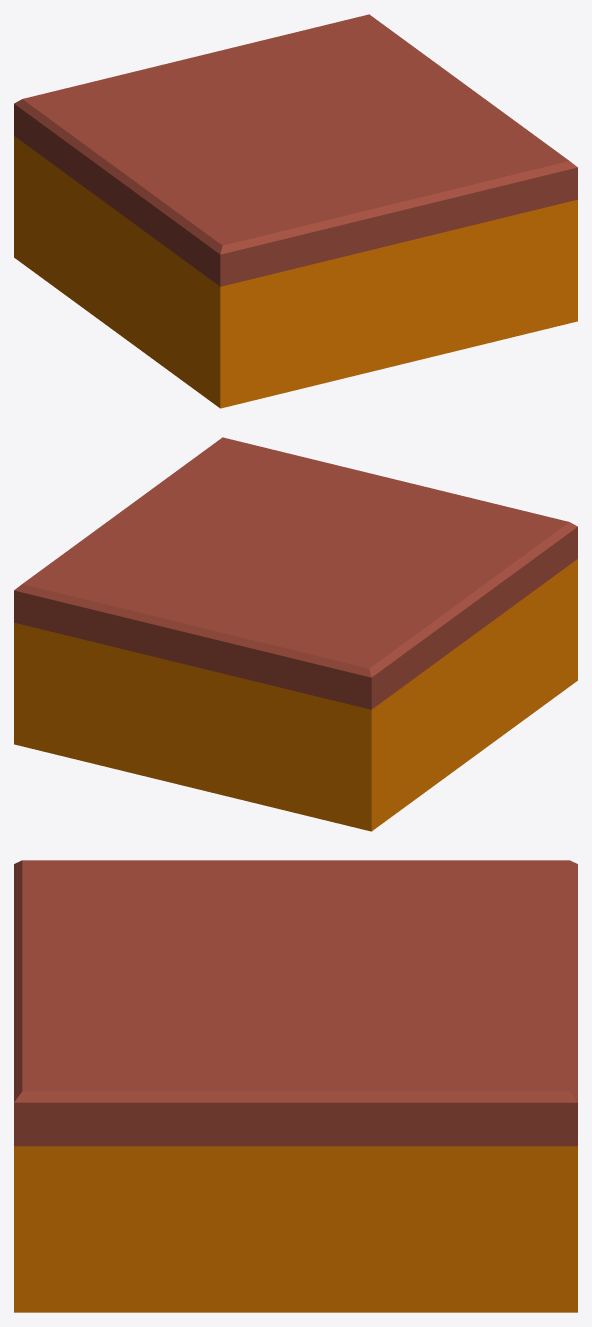
The model's file is wine_tile.fbx.
The picture shows the model from 3 angles, top to bottom: view 1: azimuth 30°, elevation 25°; view 2: azimuth 150°, elevation 25°; view 3: azimuth 270°, elevation 25°; orthographic projection. The views are drawn at different scales.
Parts seen in each view (by area): view 1: Plane_008; view 2: Plane_008; view 3: Plane_008.
Part boxes in pixels (x1,y1,x2,y2): Plane_008: [14, 14, 577, 408]; Plane_008: [14, 437, 577, 831]; Plane_008: [14, 860, 577, 1312].
Bounding box in the file's own units: 2 × 0.8523 × 2.
